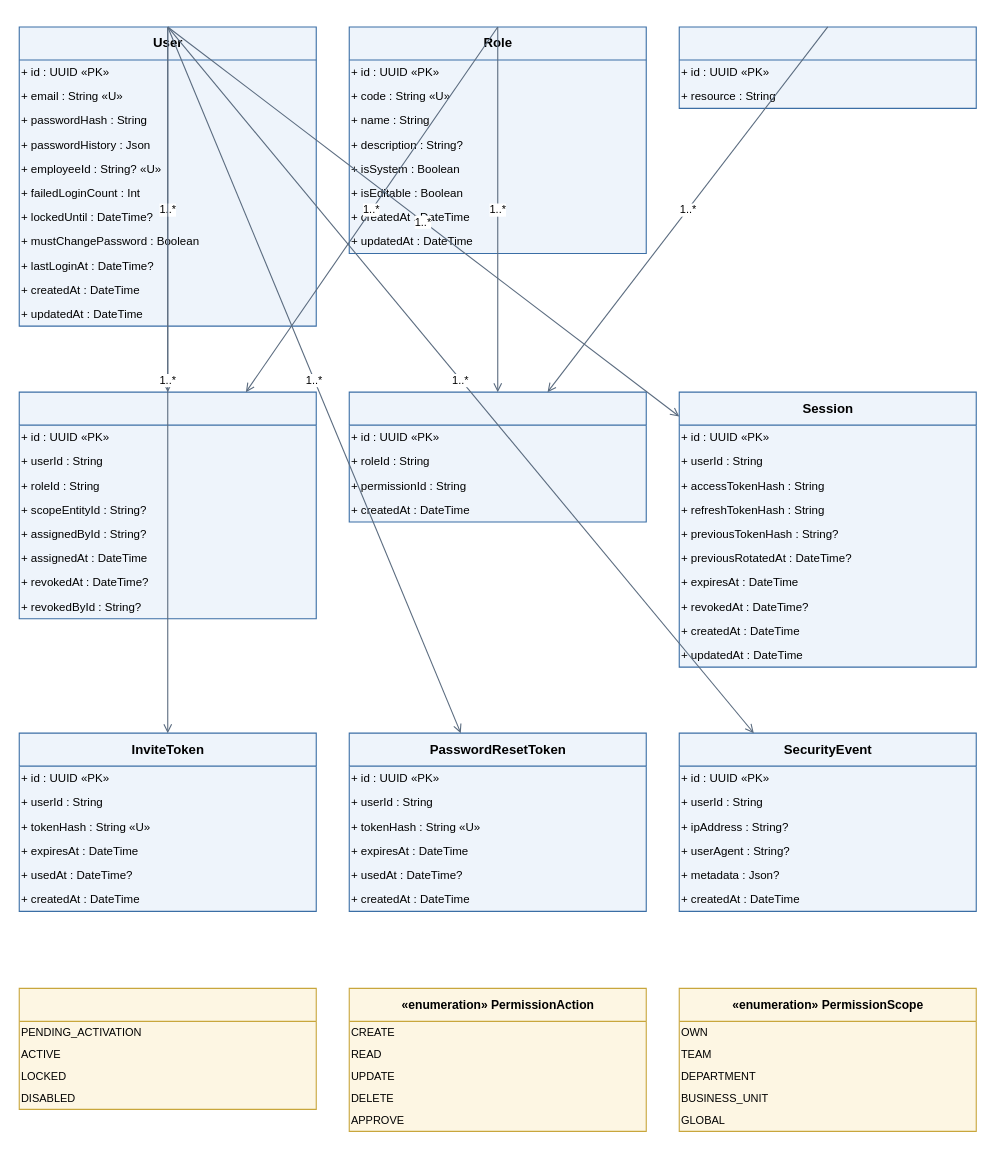
This 996x1151 diagram has some shape labels left out. The box of each missing label's shape, as (x1, y1, x2, y2) in pixels:
Permission: (678, 26, 976, 108)
RolePermission: (348, 391, 646, 522)
UserRole: (18, 391, 316, 619)
«enumeration» UserStatus: (18, 987, 316, 1109)
